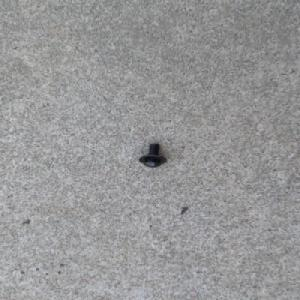BoltWasher: (138, 142, 168, 168)
